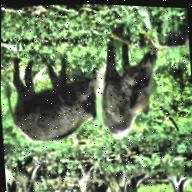boar: (0, 47, 106, 148), (96, 36, 169, 148)
